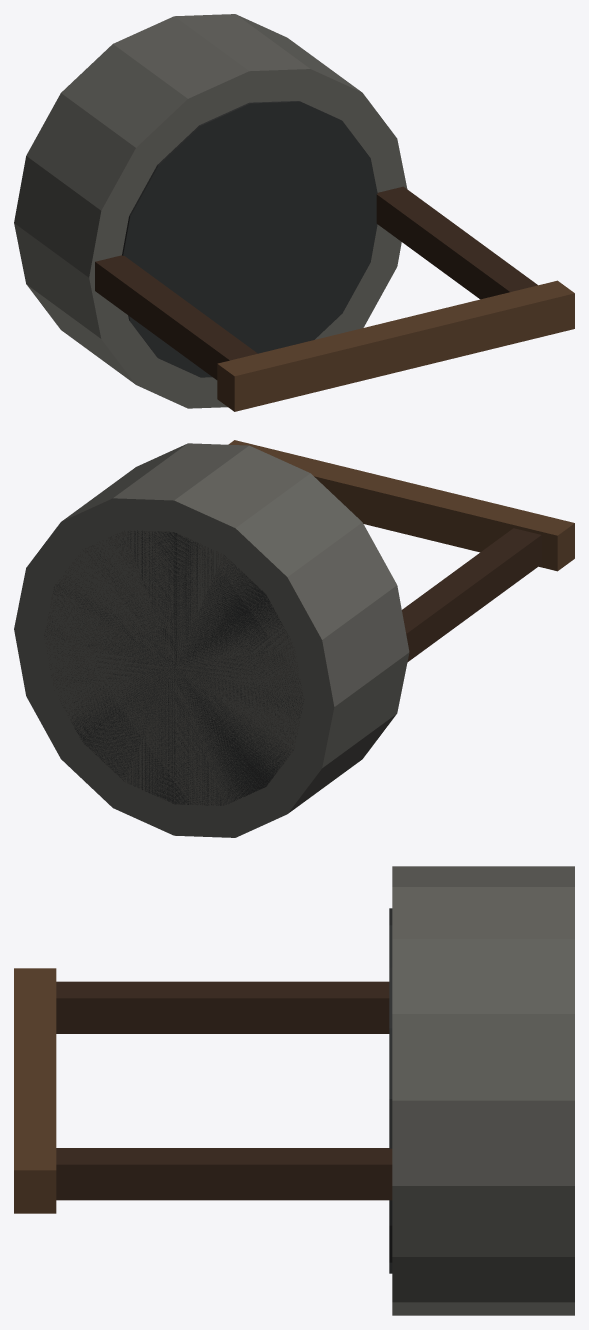
Rendered from SM_StoneWell.obj.
3 views of the same model, one above another, from view 1: azimuth 30°, elevation 25°; view 2: azimuth 150°, elevation 25°; view 3: azimuth 270°, elevation 25° (orthographic). The views are drawn at different scales.
Bounding box in the file's own units: 1.7 × 1.6 × 2.
